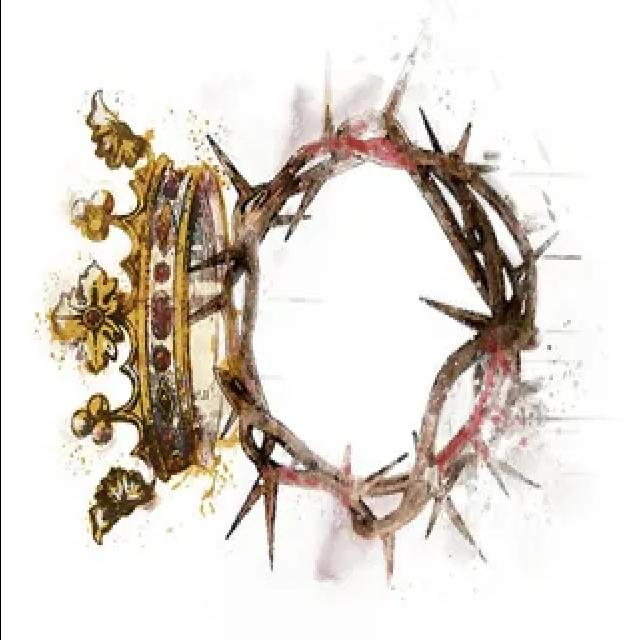crown: (207, 112, 555, 550)
